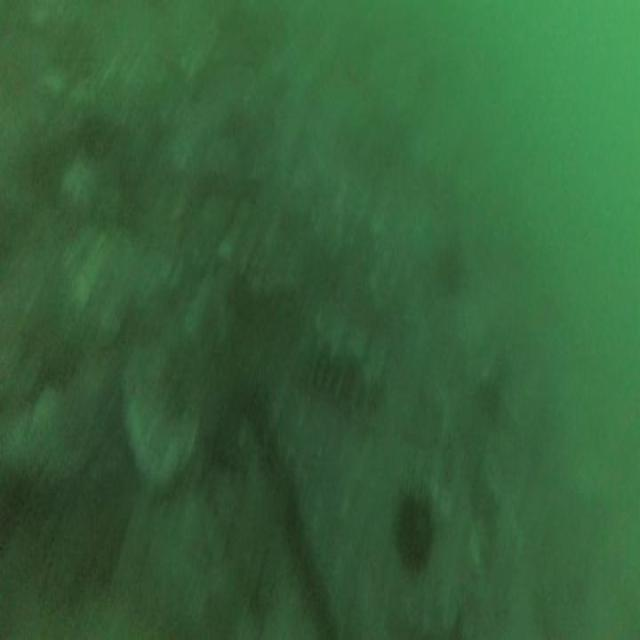echinus: (397, 498, 433, 567)
holothurian: (302, 340, 372, 414)
